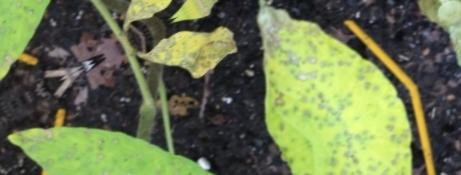Tomato Septoria leaf spot: (194, 0, 401, 164), (1, 42, 243, 175)
